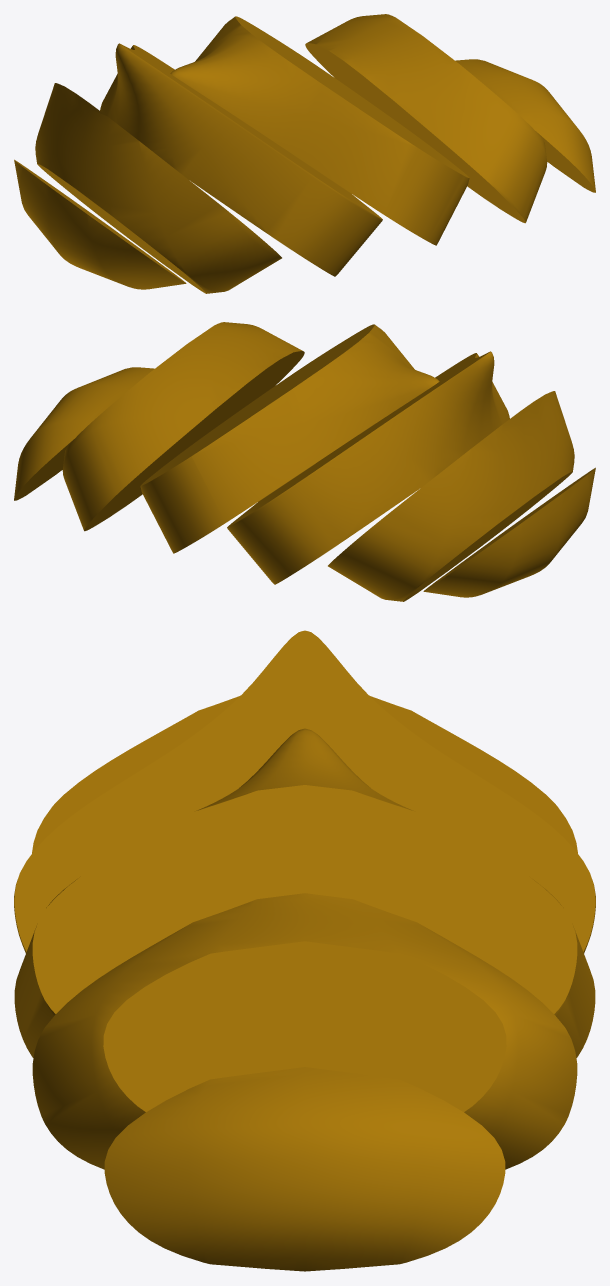
File: CuttingOnion.FBX
3 renders of one model, top to bottom at view 1: azimuth 30°, elevation 25°; view 2: azimuth 150°, elevation 25°; view 3: azimuth 270°, elevation 25°, orthographic. The views are drawn at different scales.
Visible parts, largest first — view 1: Box001; view 2: Box001; view 3: Box001.
Boxes of the visible parts, x1,y1,x2,y2 form: Box001: (14,14,595,293); Box001: (14,322,595,601); Box001: (14,630,595,1271).
Size of the model in its own units: 127 by 85.3 by 55.82.
1 material, 1 textured.
